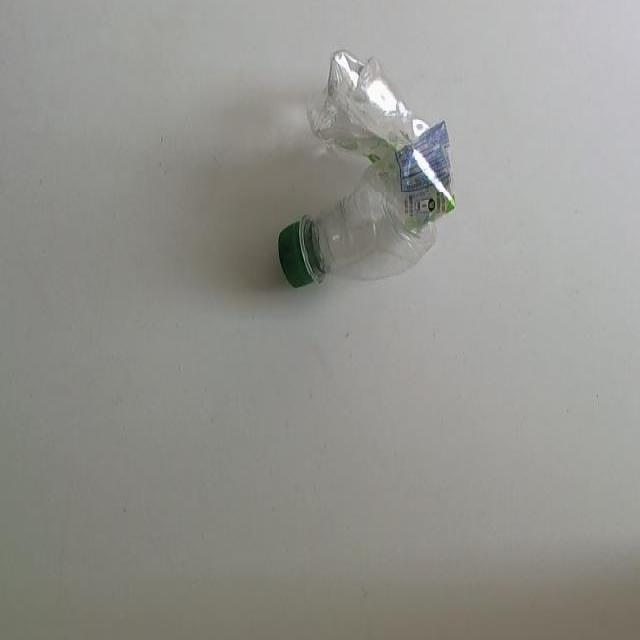defect: (273, 46, 459, 294)
